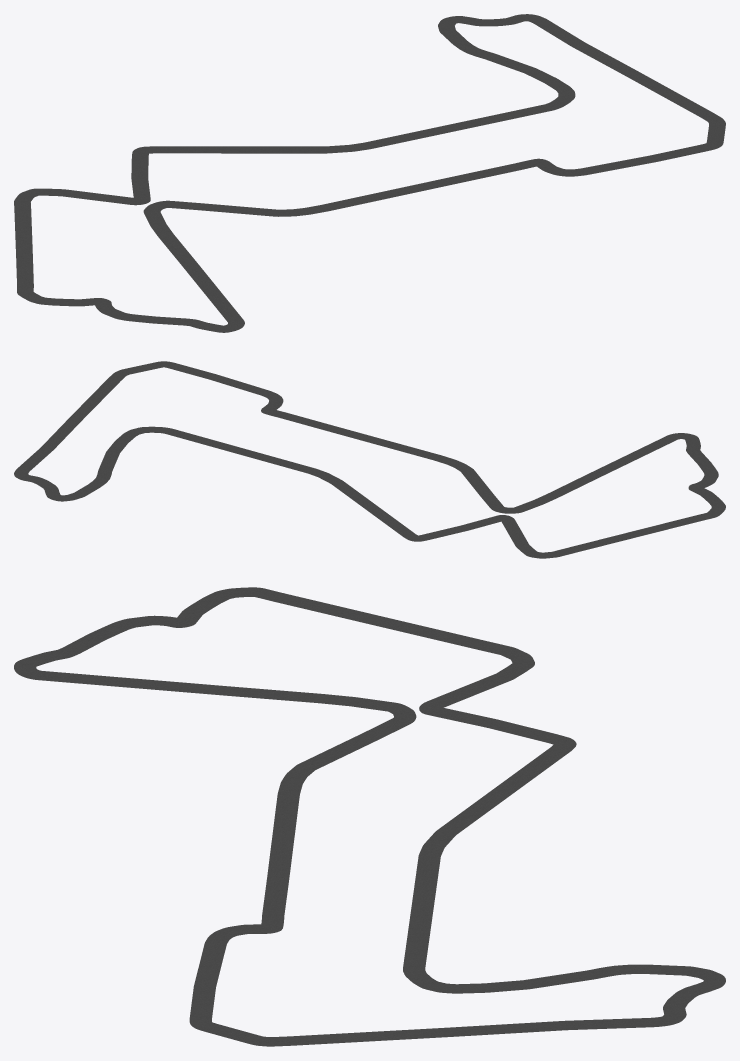
The model's file is track.dae.
The picture shows the model from 3 angles, top to bottom: view 1: azimuth 30°, elevation 25°; view 2: azimuth 150°, elevation 25°; view 3: azimuth 270°, elevation 25°; orthographic projection. The views are drawn at different scales.
Parts seen in each view (by area): view 1: road-node; view 2: road-node; view 3: road-node.
Boxes of the visible parts, x1,y1,x2,y2 form: road-node: [14, 14, 725, 332]; road-node: [14, 361, 725, 558]; road-node: [14, 587, 725, 1046].
Bounding box in the file's own units: 72.97 × 47.81 × 0.
Materials: 1 (1 with a texture image).
